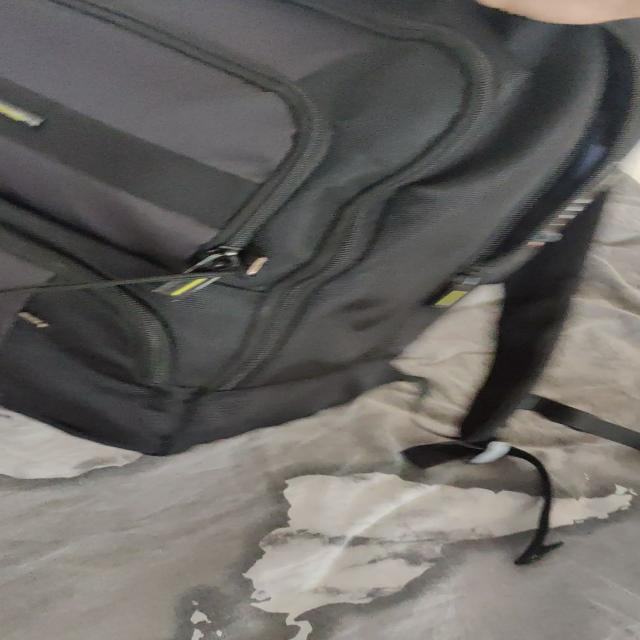backpack: (0, 0, 640, 480)
